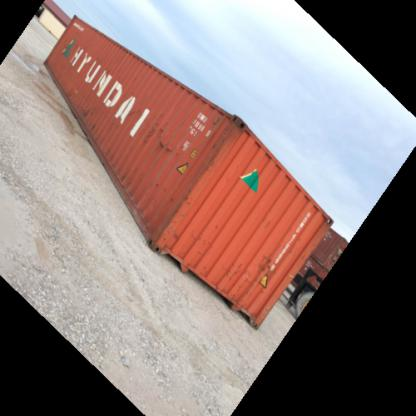Damage: (198, 112, 246, 180), (158, 185, 200, 244), (140, 123, 186, 161), (248, 244, 280, 276), (72, 100, 104, 132), (219, 258, 243, 286)
